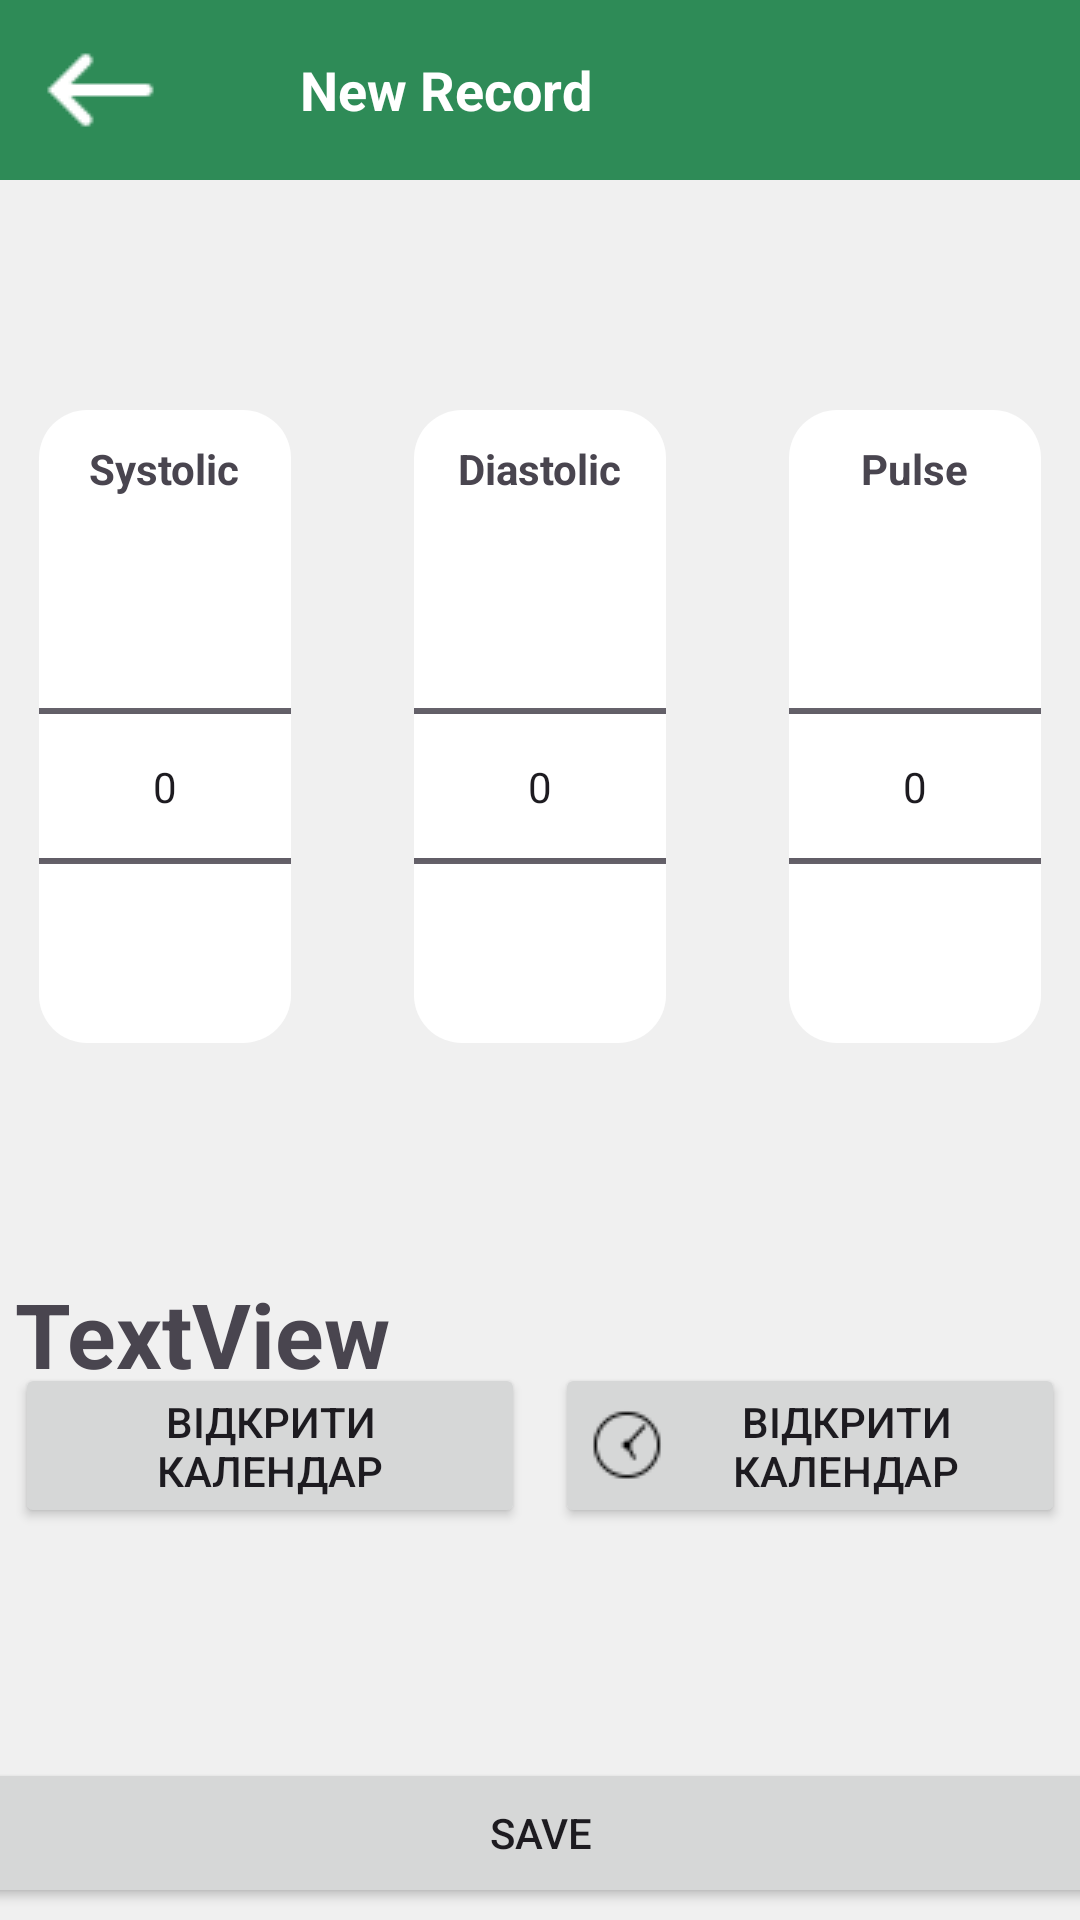

Where icons sit on this 1080x1920 app screen, as (x1, y1, x2, y2):
Back: (47, 53, 154, 127)
